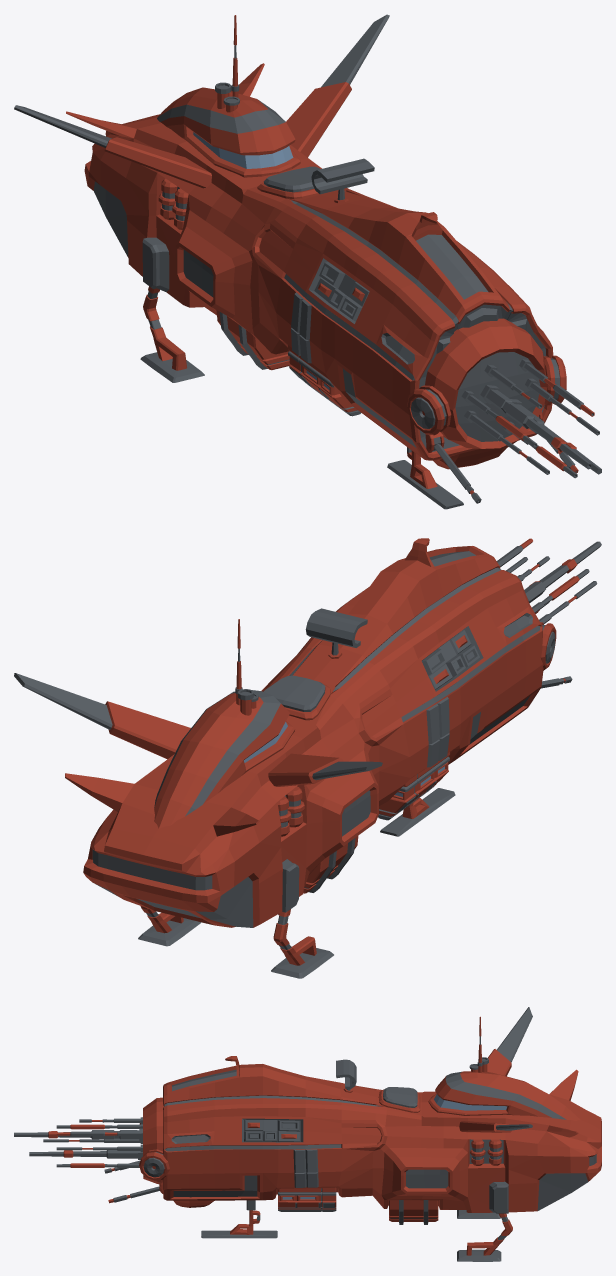
File: Dropship_05_Red.fbx
3 renders of one model, top to bottom at view 1: azimuth 30°, elevation 25°; view 2: azimuth 150°, elevation 25°; view 3: azimuth 270°, elevation 25°, orthographic. The views are drawn at different scales.
Visible parts, largest first — view 1: Dropship_05_Red; view 2: Dropship_05_Red; view 3: Dropship_05_Red.
Boxes of the visible parts, <box> form: Dropship_05_Red: <box>14,14,601,509</box>; Dropship_05_Red: <box>14,538,601,978</box>; Dropship_05_Red: <box>14,1007,601,1261</box>.
Size of the model in its own units: 1028 by 878 by 2156.
Materials: 3 (3 with a texture image).
